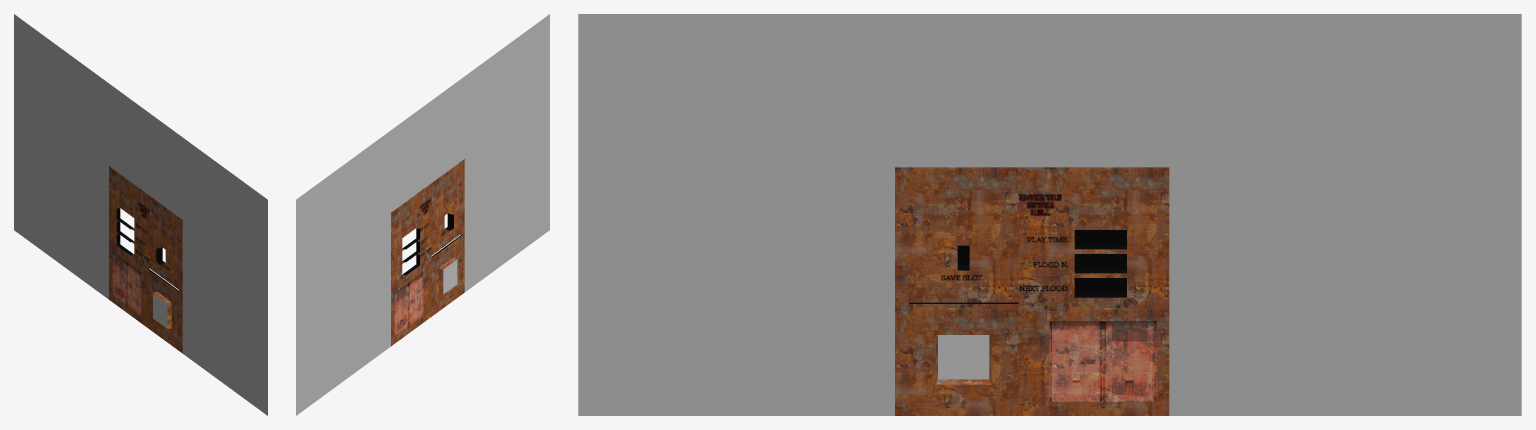
The model's file is Main Menu Box.fbx.
3 views of the same model, side by side, from view 1: azimuth 30°, elevation 25°; view 2: azimuth 150°, elevation 25°; view 3: azimuth 270°, elevation 25° (orthographic). The views are drawn at different scales.
Visible parts, largest first — view 1: Cube; view 2: Cube; view 3: Cube.
Boxes of the visible parts, box(x1,y1,x2,y2) form: Cube: box(14, 14, 267, 415); Cube: box(296, 14, 549, 415); Cube: box(578, 14, 1521, 415).
Bounding box in the file's own units: 9.64 × 323 × 688.
